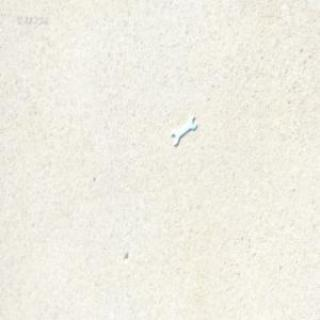Wrenchtrack_idkeyframe: (170, 118, 196, 149)
